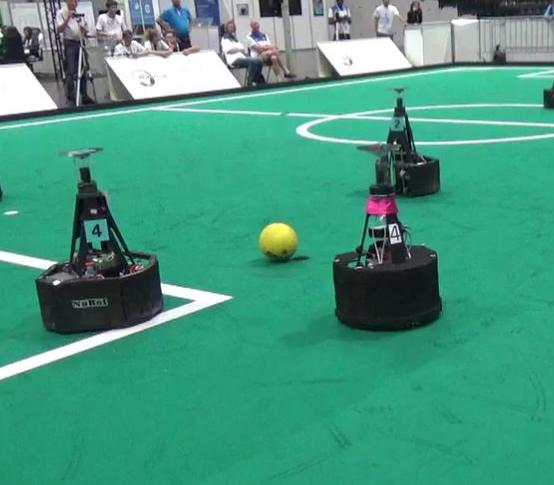robot: (27, 144, 168, 336), (323, 138, 446, 334), (366, 79, 444, 198)
